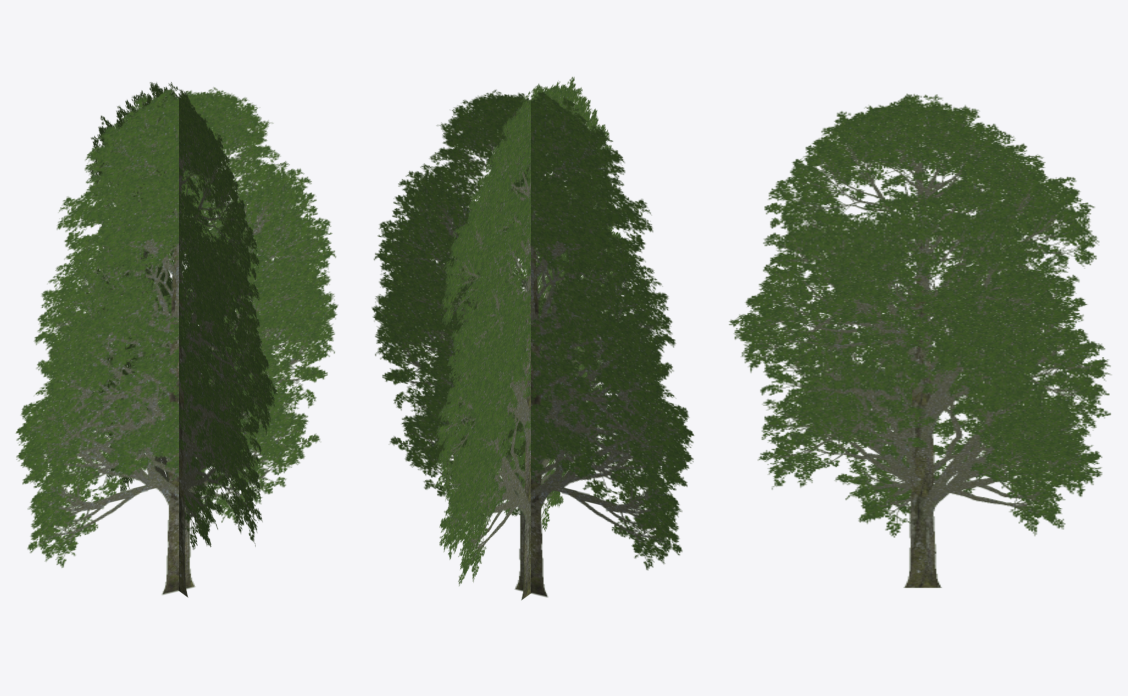
Rendered from FagusSylvatica.glb.
3 renders of one model, left to right at view 1: azimuth 30°, elevation 25°; view 2: azimuth 150°, elevation 25°; view 3: azimuth 270°, elevation 25°, orthographic. The views are drawn at different scales.
Parts seen in each view (by area): view 1: mesh__mat_billboard_14; view 2: mesh__mat_billboard_14; view 3: mesh__mat_billboard_14.
Part boxes in pixels (x1=…): mesh__mat_billboard_14: x1=15, y1=82, x2=338, y2=597; mesh__mat_billboard_14: x1=372, y1=77, x2=694, y2=600; mesh__mat_billboard_14: x1=729, y1=93, x2=1110, y2=587.
Size of the model in its own units: 16.29 by 24.94 by 17.2.
1 material, 1 textured.
